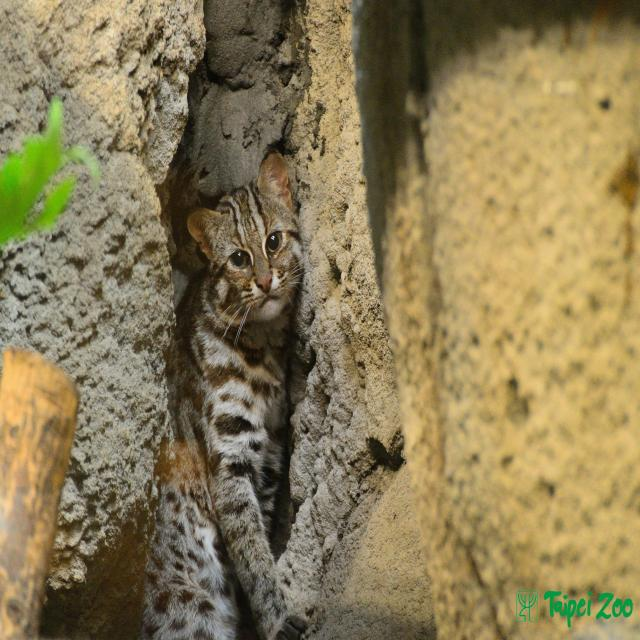leopard: (185, 151, 338, 566)
